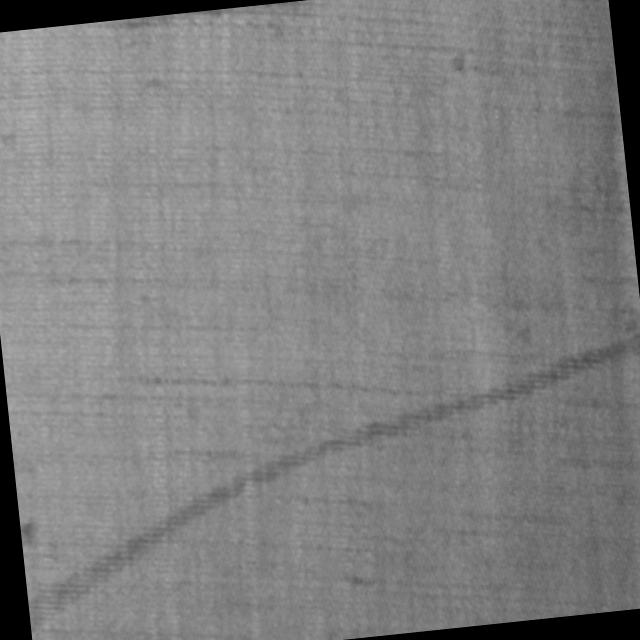oil spot: (6, 325, 640, 636)
